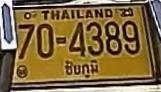0: (36, 23, 53, 57)
3: (87, 21, 102, 55)
4: (68, 22, 85, 56)
7: (18, 23, 34, 58)
8: (105, 21, 121, 54)
9: (122, 20, 139, 54)
CPM: (61, 57, 100, 79)
